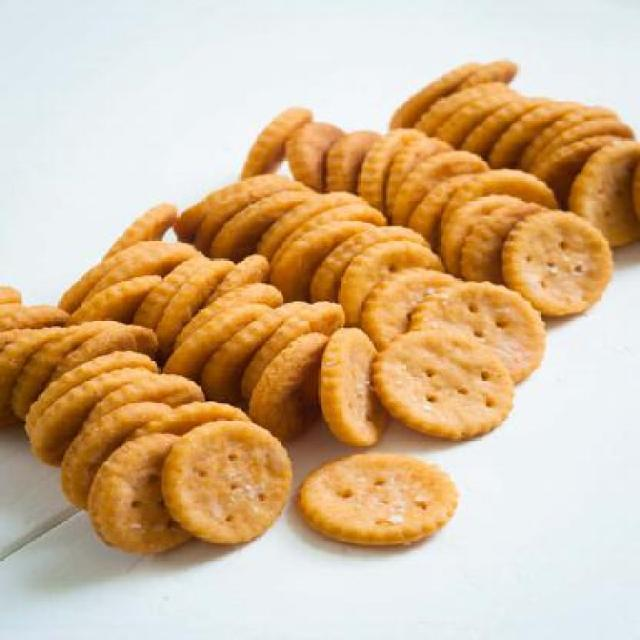Ritz cracker packaged: (13, 50, 627, 588)
